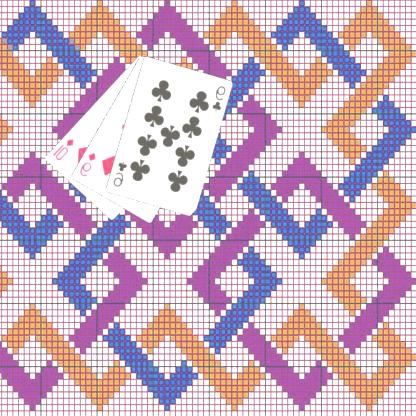10D: (51, 136, 77, 162)
6D: (78, 150, 98, 178)
9C: (112, 158, 130, 188), (210, 83, 228, 113)
